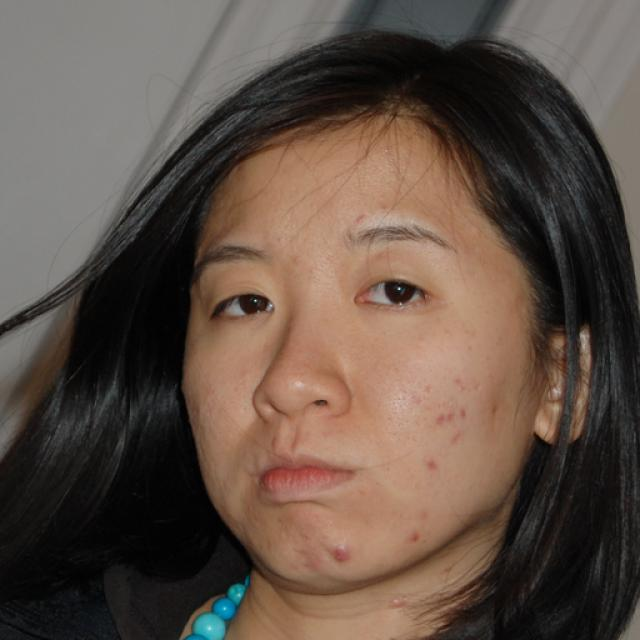Acne: (324, 538, 357, 566)
Spots: (410, 446, 461, 489), (432, 401, 472, 454), (392, 520, 430, 552), (445, 371, 468, 397), (483, 399, 507, 420), (351, 207, 374, 227)
